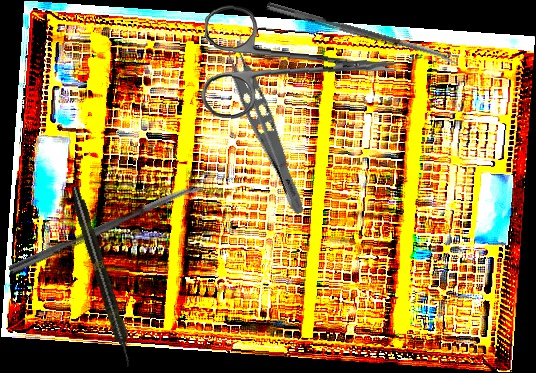Handpiece: (66, 184, 138, 370)
Iris Scissors: (200, 4, 399, 128)
Surgical Spoon: (8, 180, 205, 276), (265, 1, 460, 66)
Tissue Forceps: (216, 34, 320, 217)
